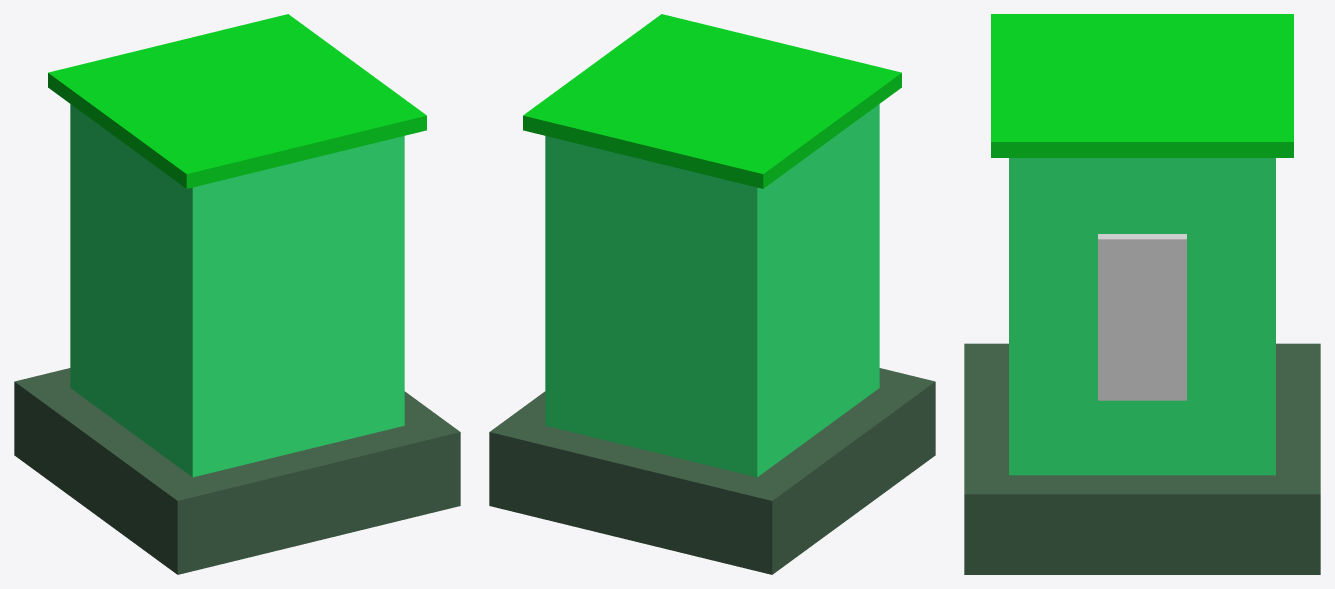
Rendered from ebox_draco.gltf.
3 renders of one model, left to right at view 1: azimuth 30°, elevation 25°; view 2: azimuth 150°, elevation 25°; view 3: azimuth 270°, elevation 25°, orthographic. The views are drawn at different scales.
Visible parts, largest first — view 1: 立方体.001, 立方体, 立方体.002; view 2: 立方体.001, 立方体, 立方体.002; view 3: 立方体.001, 立方体, 立方体.002, 立方体.003.
Part boxes in pixels (<box>): 立方体.001: <box>70,104,404,477</box>; 立方体: <box>14,368,460,574</box>; 立方体.002: <box>48,14,426,188</box>; 立方体.001: <box>545,104,879,477</box>; 立方体: <box>489,368,935,574</box>; 立方体.002: <box>523,14,901,188</box>; 立方体.001: <box>1009,158,1275,475</box>; 立方体: <box>964,343,1320,574</box>; 立方体.002: <box>991,14,1293,157</box>; 立方体.003: <box>1098,234,1186,400</box>.
Bounding box in the file's own units: 4 × 5.23 × 4.
